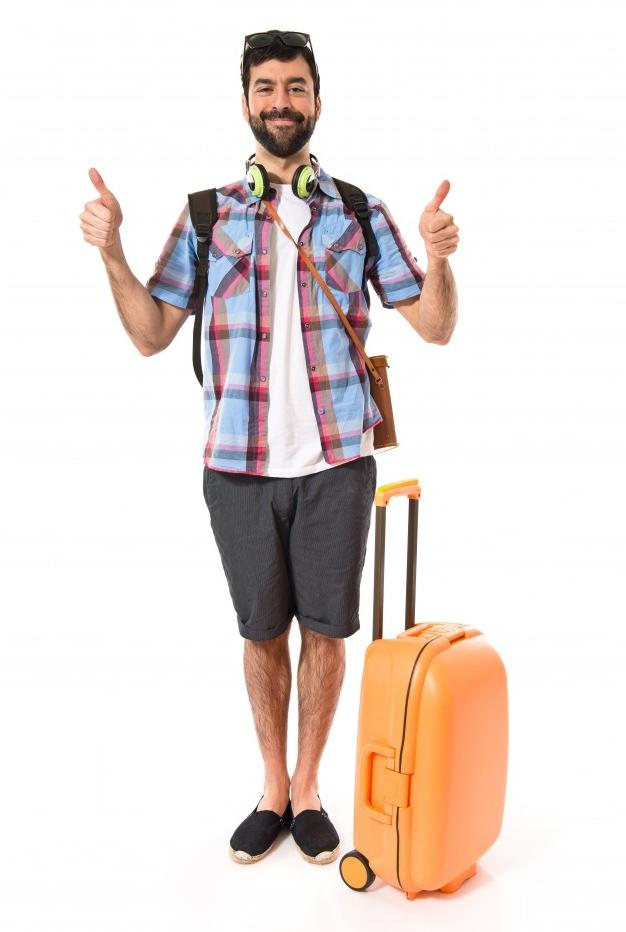thumbsup: (78, 166, 116, 249), (425, 179, 460, 257)
